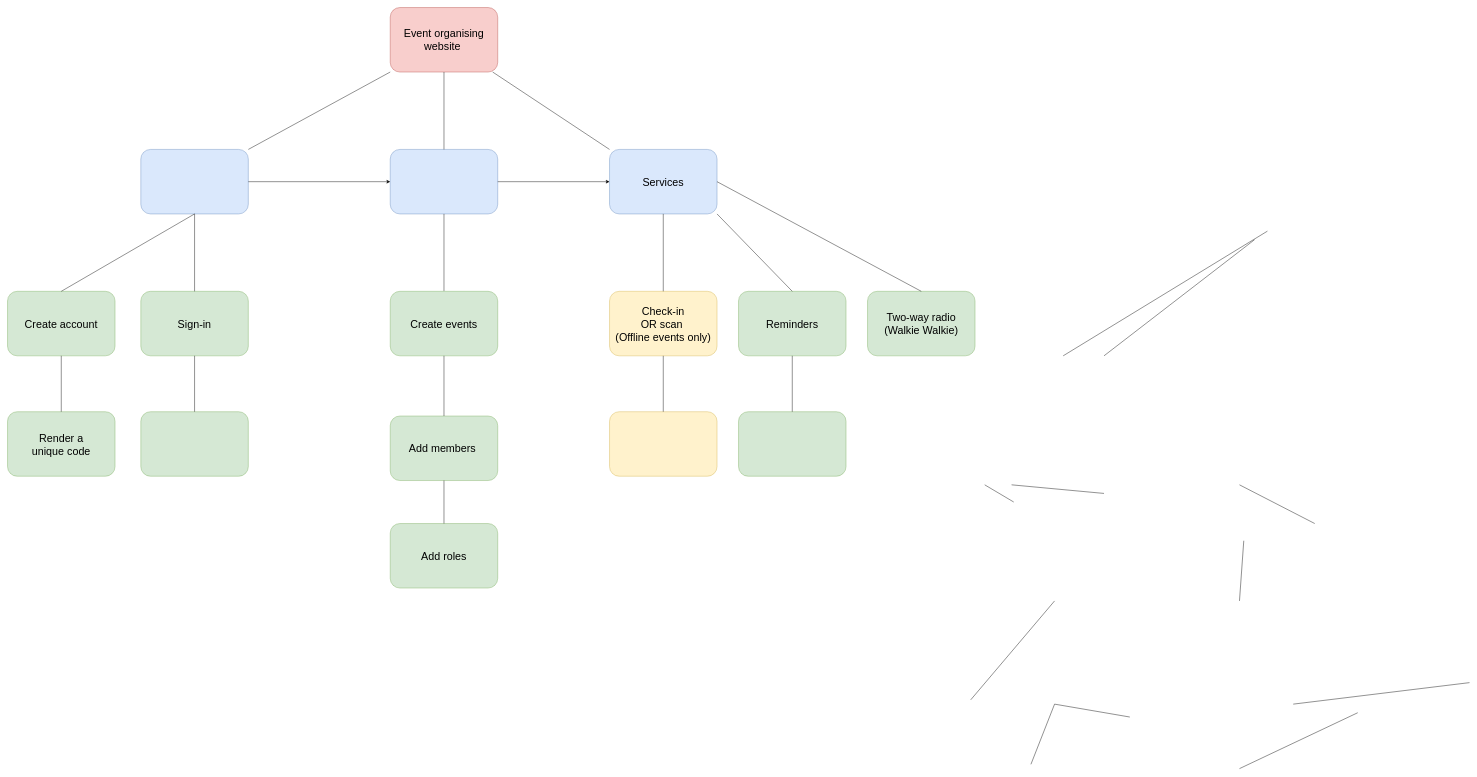
Image size: 1477x777. Some labels were removed from this diagram. The centre of each missing label's shape, as x and y in pixels:
Authentication: point (194, 181)
Collect data: point (663, 443)
Events: point (444, 181)
IAM Check: point (194, 443)
Red buzz: point (792, 443)
